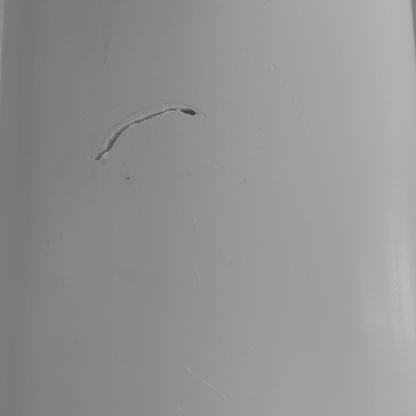fengxi: (92, 106, 199, 161)
